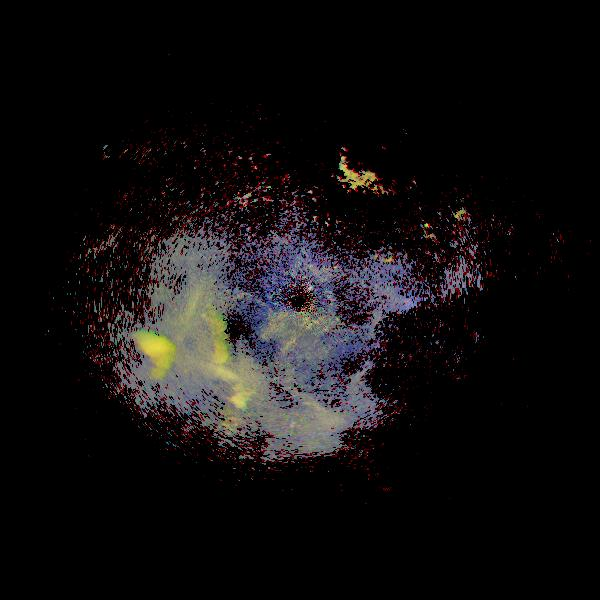roost: (333, 119, 414, 200), (163, 310, 232, 379), (118, 332, 172, 386)
